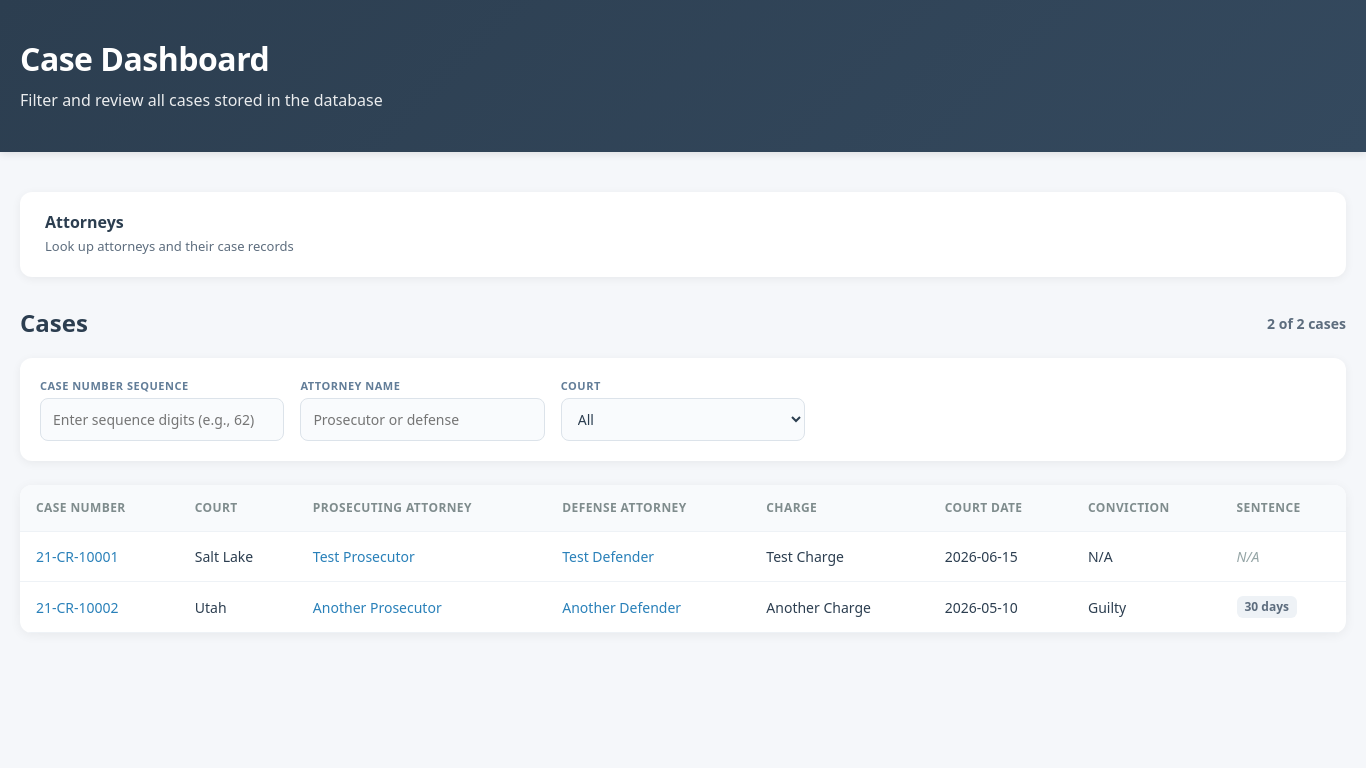
Scenario: Home dashboard › filters cases by attorney name
Type "Another" into the search field labelled "Attorney Name" at (423, 420), box [300,398,545,441]
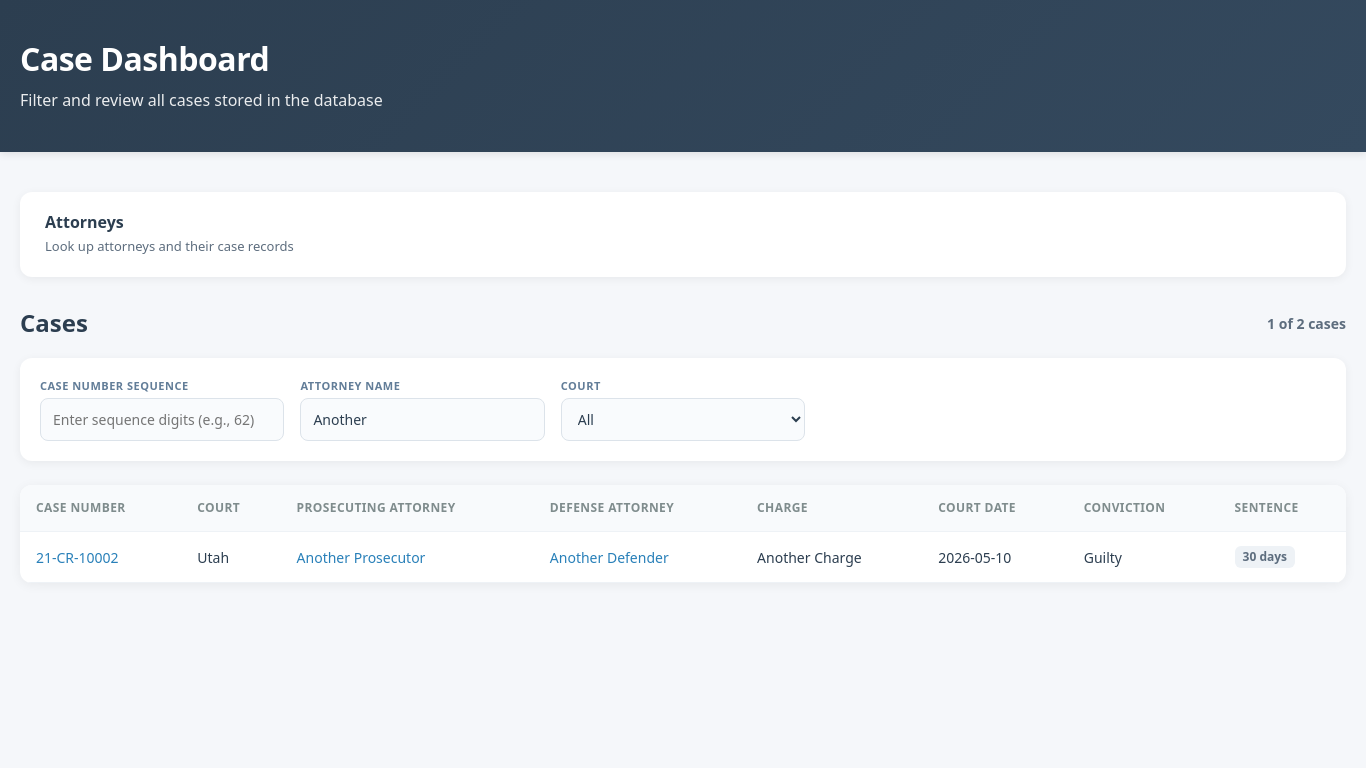
Expected: the link "21-CR-10002" is shown, [36,548,119,567]
Now the link "21-CR-10001" is gone
